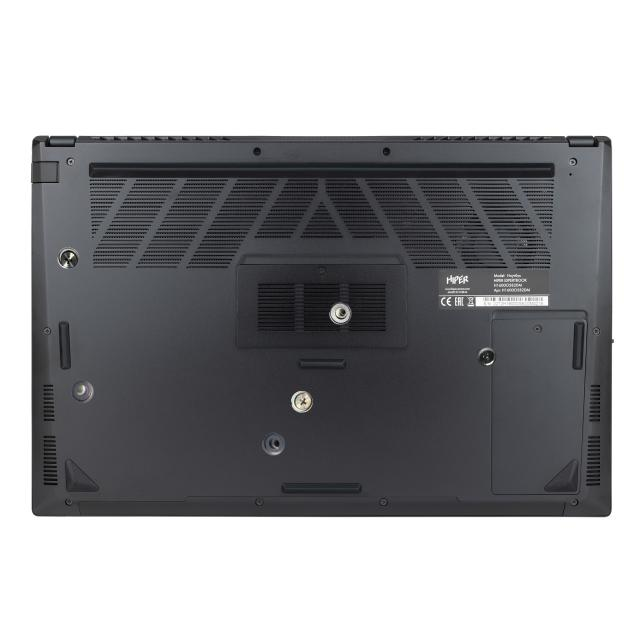lock: (57, 247, 79, 269), (291, 391, 313, 412), (476, 347, 496, 366)
missing_screw: (262, 432, 285, 455), (71, 380, 94, 403), (329, 302, 351, 324)
